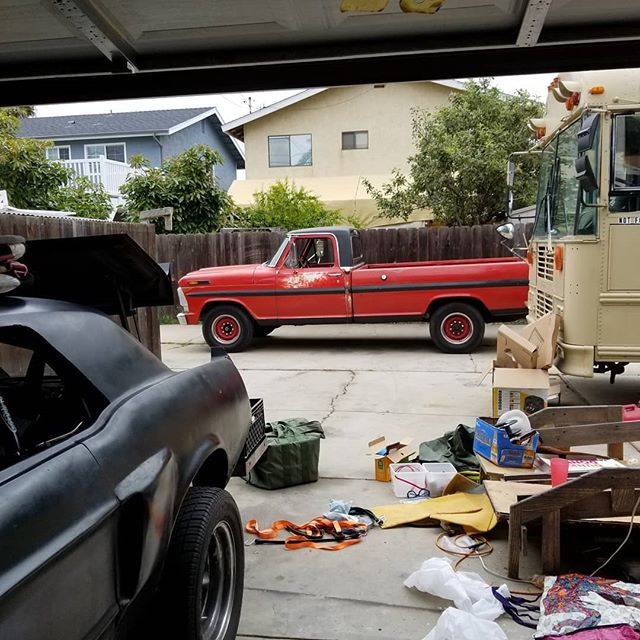building: (245, 76, 557, 234), (7, 115, 236, 228)
car: (1, 326, 278, 640), (162, 222, 532, 336)
trash: (279, 382, 640, 640)
truck: (496, 79, 640, 371)
